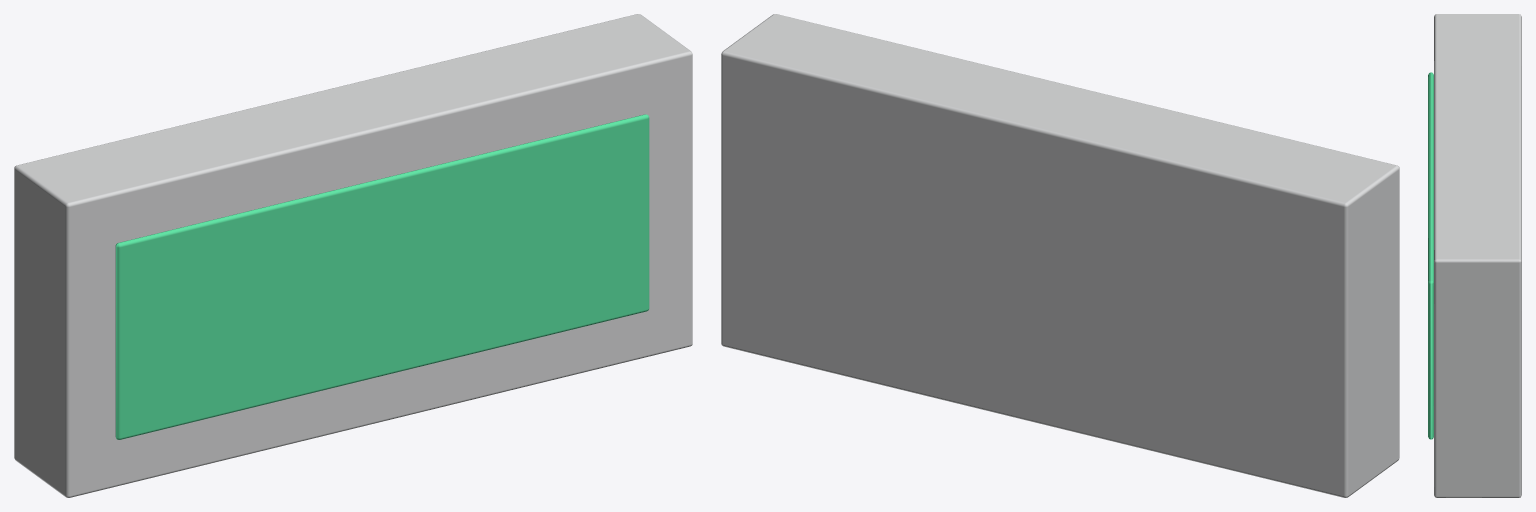
The model's file is SM_ExitSign.fbx.
3 renders of one model, left to right at view 1: azimuth 30°, elevation 25°; view 2: azimuth 150°, elevation 25°; view 3: azimuth 270°, elevation 25°, orthographic. The views are drawn at different scales.
Parts seen in each view (by area): view 1: SM_ExitSign; view 2: SM_ExitSign; view 3: SM_ExitSign.
Boxes of the visible parts, bbox=[...] form: SM_ExitSign: bbox=[14, 14, 692, 497]; SM_ExitSign: bbox=[721, 14, 1399, 497]; SM_ExitSign: bbox=[1428, 14, 1521, 497].
Size of the model in its own units: 0.4 by 0.18 by 0.064.
